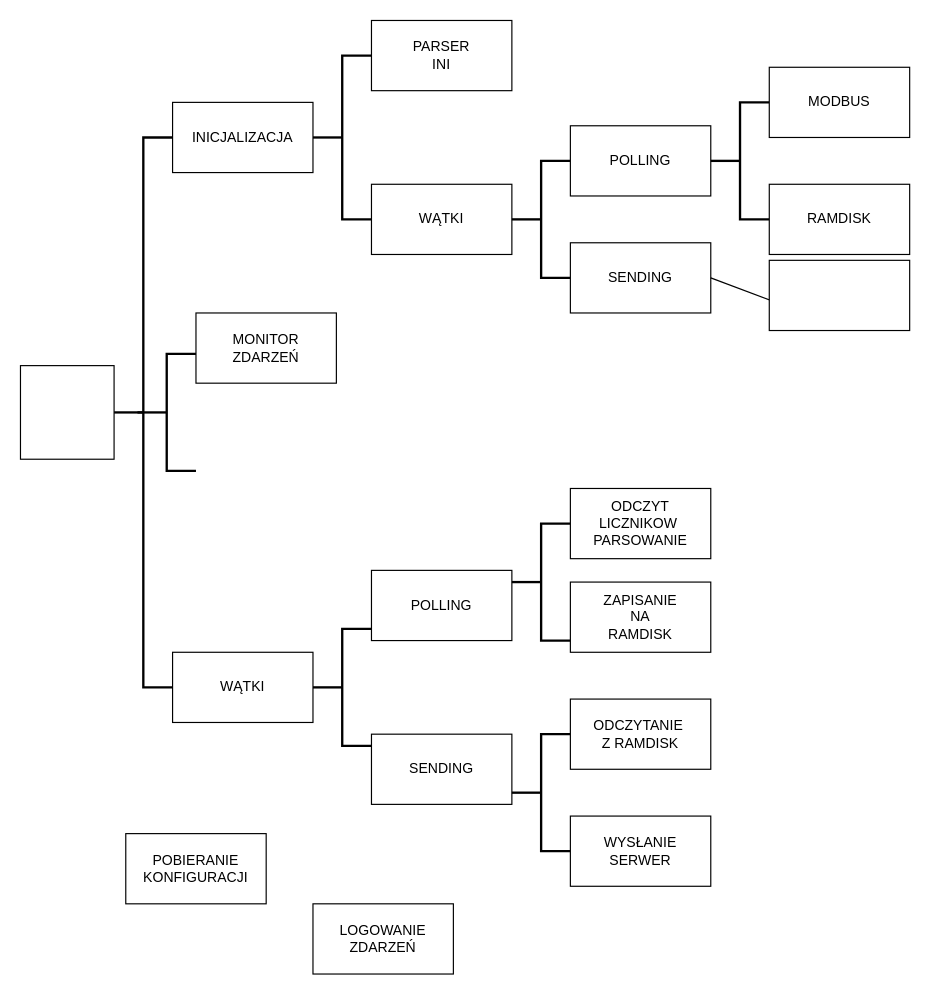
Some shapes in this 930 by 994 pixel diagram are drawn without their labels. The box of each missing label's shape, as (x1, y1, x2, y2) in pixels:
PROGRAM GŁÓWNY: (19, 364, 114, 459)
SERWER: (768, 259, 910, 331)
